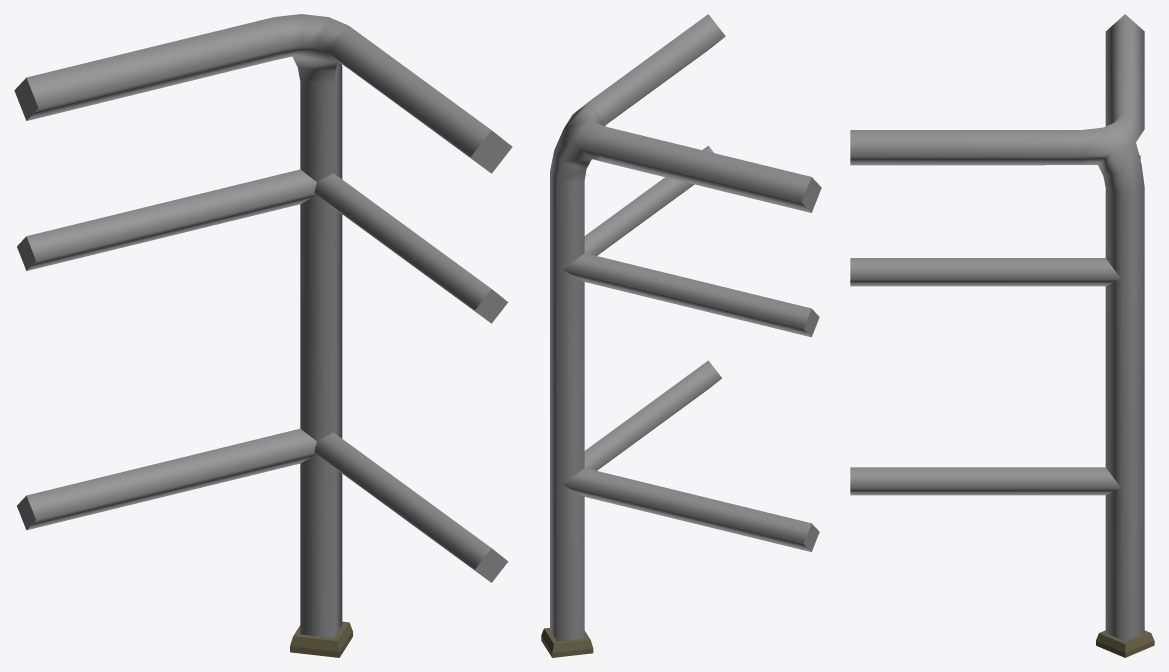
Rendered from SW_ENV_Railing_Crnr.fbx.
The picture shows the model from 3 angles, left to right: view 1: azimuth 30°, elevation 25°; view 2: azimuth 150°, elevation 25°; view 3: azimuth 270°, elevation 25°; orthographic projection. The views are drawn at different scales.
Parts seen in each view (by area): view 1: SW_ENV_Railing_Crnr; view 2: SW_ENV_Railing_Crnr; view 3: SW_ENV_Railing_Crnr.
Boxes of the visible parts, x1=… form: SW_ENV_Railing_Crnr: x1=14, y1=14, x2=512, y2=657; SW_ENV_Railing_Crnr: x1=541, y1=14, x2=821, y2=657; SW_ENV_Railing_Crnr: x1=850, y1=14, x2=1154, y2=657.
Size of the model in its own units: 0.5534 by 1.04 by 0.5534.
